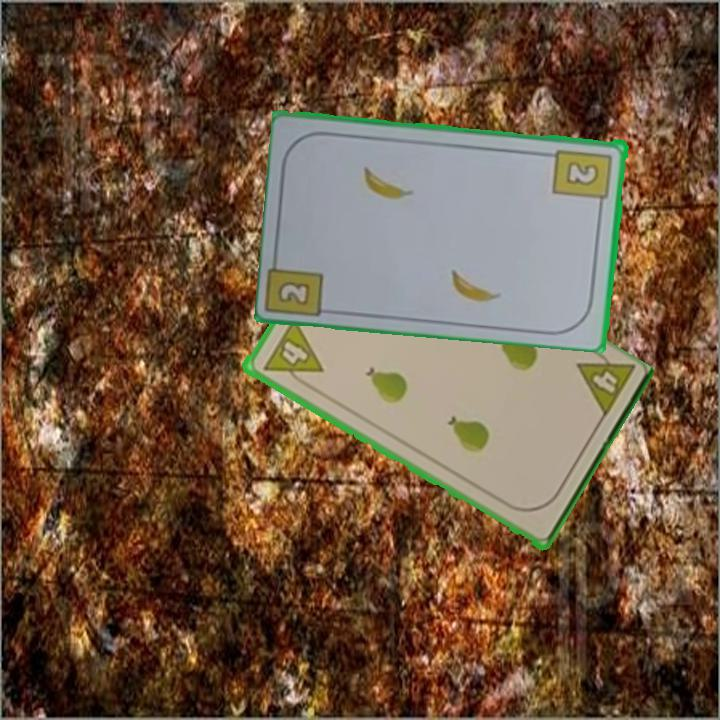2b: (551, 145, 615, 211), (274, 277, 314, 308)
4p: (572, 342, 637, 423), (259, 316, 325, 392)
